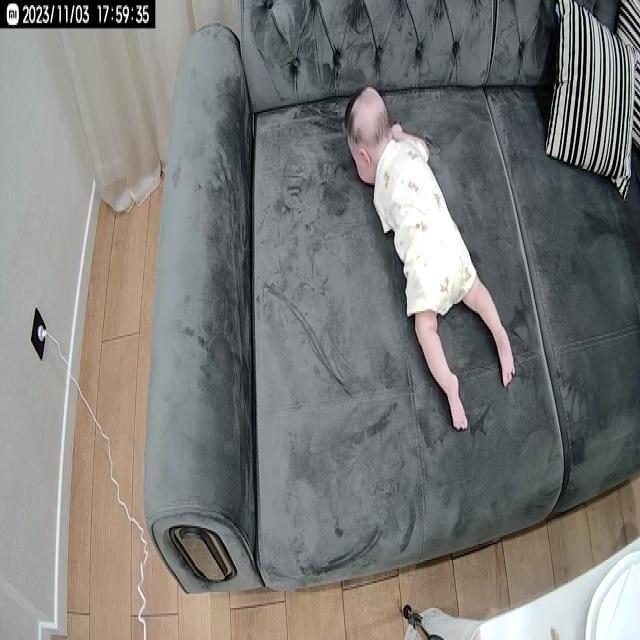baby: (343, 84, 518, 438)
